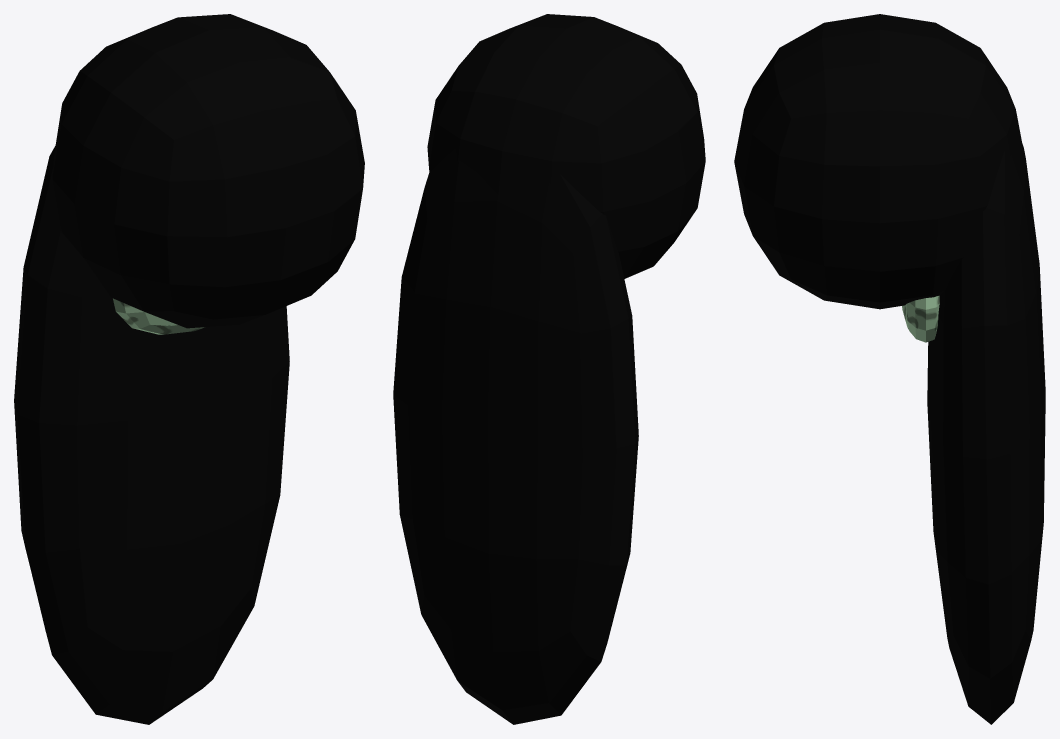
The model's file is item-beangun.glb.
3 renders of one model, left to right at view 1: azimuth 30°, elevation 25°; view 2: azimuth 150°, elevation 25°; view 3: azimuth 270°, elevation 25°, orthographic. The views are drawn at different scales.
Size of the model in its own units: 0.014 by 0.0367 by 0.015.
Materials: 2 (1 with a texture image).
